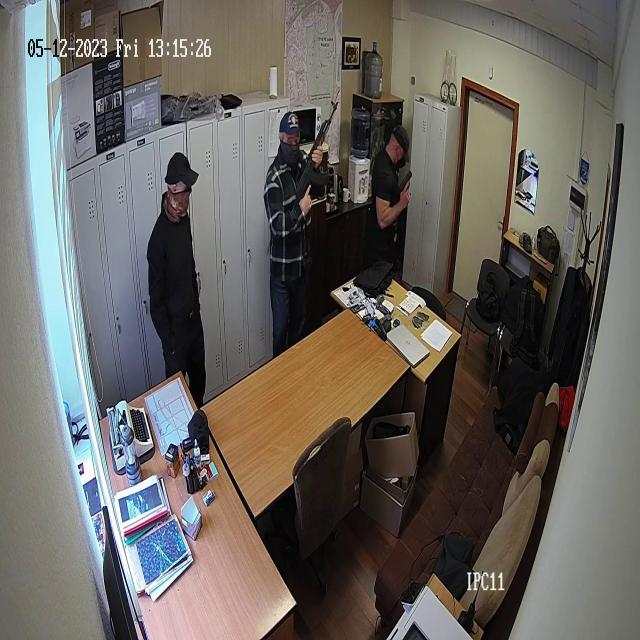gun: (267, 86, 341, 341), (152, 151, 206, 393), (372, 129, 412, 266), (296, 104, 340, 228), (400, 170, 413, 216)
